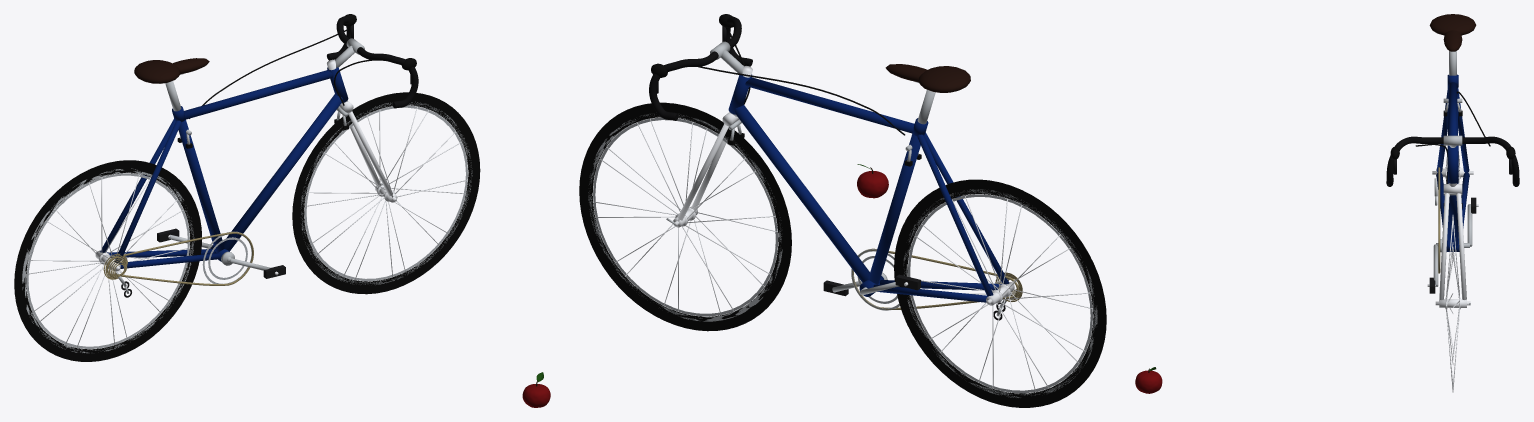
File: mcp-test.obj
The picture shows the model from 3 angles, left to right: view 1: azimuth 30°, elevation 25°; view 2: azimuth 150°, elevation 25°; view 3: azimuth 270°, elevation 25°; orthographic projection. The views are drawn at different scales.
Parts seen in each view (by area): view 1: FrontWheel_Tire, RearWheel_Tire, DownTube, TopTube, FrontWheel_RimInner, RearWheel_RimInner, SeatTube, RearWheel_Rim, Handlebar, FrontWheel_Rim, SeatStayR, SaddleRear (+6 smaller); view 2: RearWheel_Tire, FrontWheel_Tire, DownTube, TopTube, FrontWheel_RimInner, SeatTube, RearWheel_RimInner, FrontWheel_Rim, RearWheel_Rim, Handlebar, SeatStayL, SaddleRear (+8 smaller); view 3: Handlebar, SaddleRear, ForkBladeR, ForkBladeL, Apple_Body, TopTube, DownTube, HeadTube.
Part boxes in pixels (x1,y1,x2,y2): FrontWheel_Tire: [292, 92, 480, 294]; RearWheel_Tire: [14, 160, 201, 361]; DownTube: [223, 94, 342, 251]; TopTube: [184, 70, 333, 119]; FrontWheel_RimInner: [304, 105, 467, 281]; RearWheel_RimInner: [26, 173, 189, 348]; SeatTube: [178, 119, 224, 252]; RearWheel_Rim: [22, 168, 194, 353]; Handlebar: [327, 16, 418, 108]; FrontWheel_Rim: [301, 101, 472, 284]; SeatStayR: [114, 120, 181, 263]; SaddleRear: [134, 60, 180, 83]; RearWheel_Tire: [894, 179, 1106, 407]; FrontWheel_Tire: [579, 102, 791, 331]; DownTube: [735, 105, 869, 282]; TopTube: [745, 77, 914, 133]; FrontWheel_RimInner: [593, 117, 778, 316]; SeatTube: [868, 133, 920, 284]; RearWheel_RimInner: [907, 194, 1092, 393]; FrontWheel_Rim: [588, 114, 782, 321]; RearWheel_Rim: [903, 189, 1097, 397]; Handlebar: [649, 16, 752, 120]; SeatStayL: [917, 134, 993, 296]; SaddleRear: [918, 66, 970, 92]; Handlebar: [1386, 136, 1519, 186]; SaddleRear: [1429, 14, 1476, 35]; ForkBladeR: [1439, 193, 1449, 301]; ForkBladeL: [1456, 193, 1466, 299]; Apple_Body: [1135, 370, 1162, 393]; TopTube: [1448, 82, 1457, 135]; DownTube: [1447, 183, 1458, 248]; HeadTube: [1447, 145, 1458, 183].
Size of what is drawn, in the model's own units: 1.68 by 0.9741 by 1.25.
